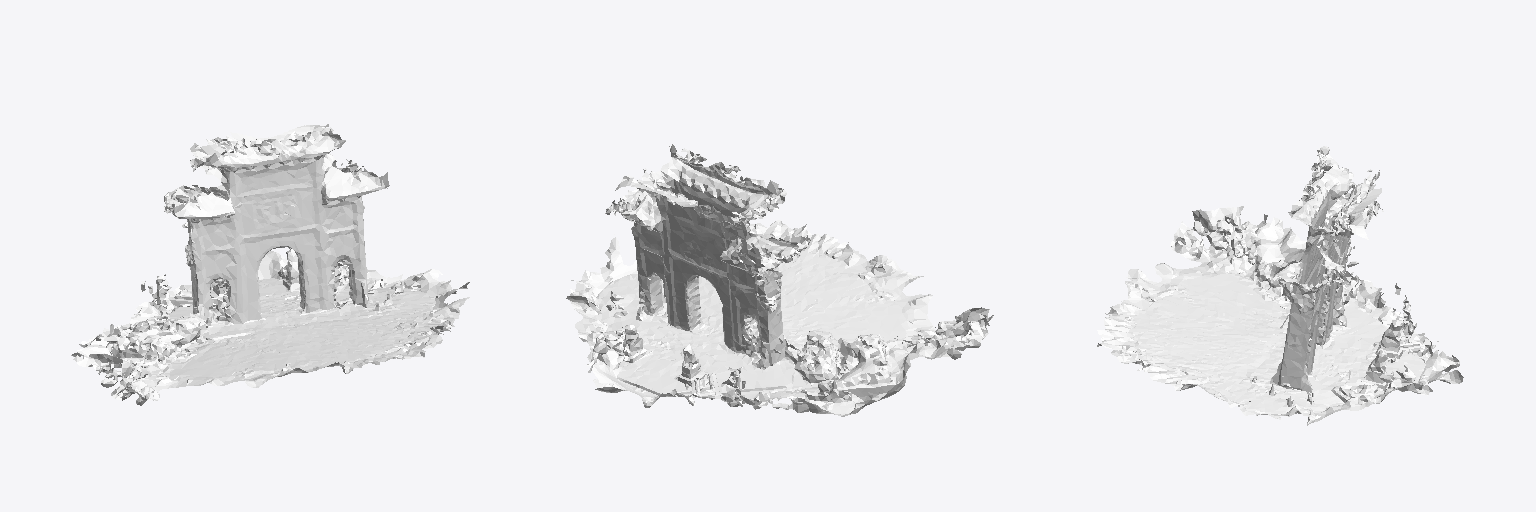
The model's file is Chinatowngate-360-Dec27.obj.
The picture shows the model from 3 angles: view 1: azimuth 30°, elevation 25°; view 2: azimuth 150°, elevation 25°; view 3: azimuth 270°, elevation 25°; orthographic projection.
Size of the model in its own units: 40.04 by 19.99 by 33.39.